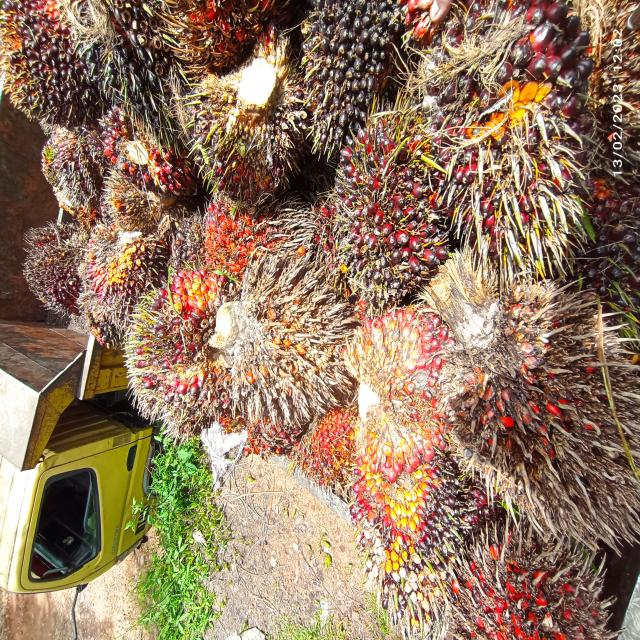fraksi 00: (74, 0, 199, 139), (301, 0, 400, 155), (354, 443, 464, 572)
fraksi 1: (407, 0, 603, 292), (318, 115, 457, 298), (114, 262, 242, 428), (3, 2, 104, 132), (12, 214, 82, 325)
fraksi 3: (343, 300, 452, 480), (296, 395, 366, 497)
fraksi 4: (433, 275, 640, 539), (217, 257, 360, 444), (444, 527, 604, 640), (198, 198, 269, 270)
